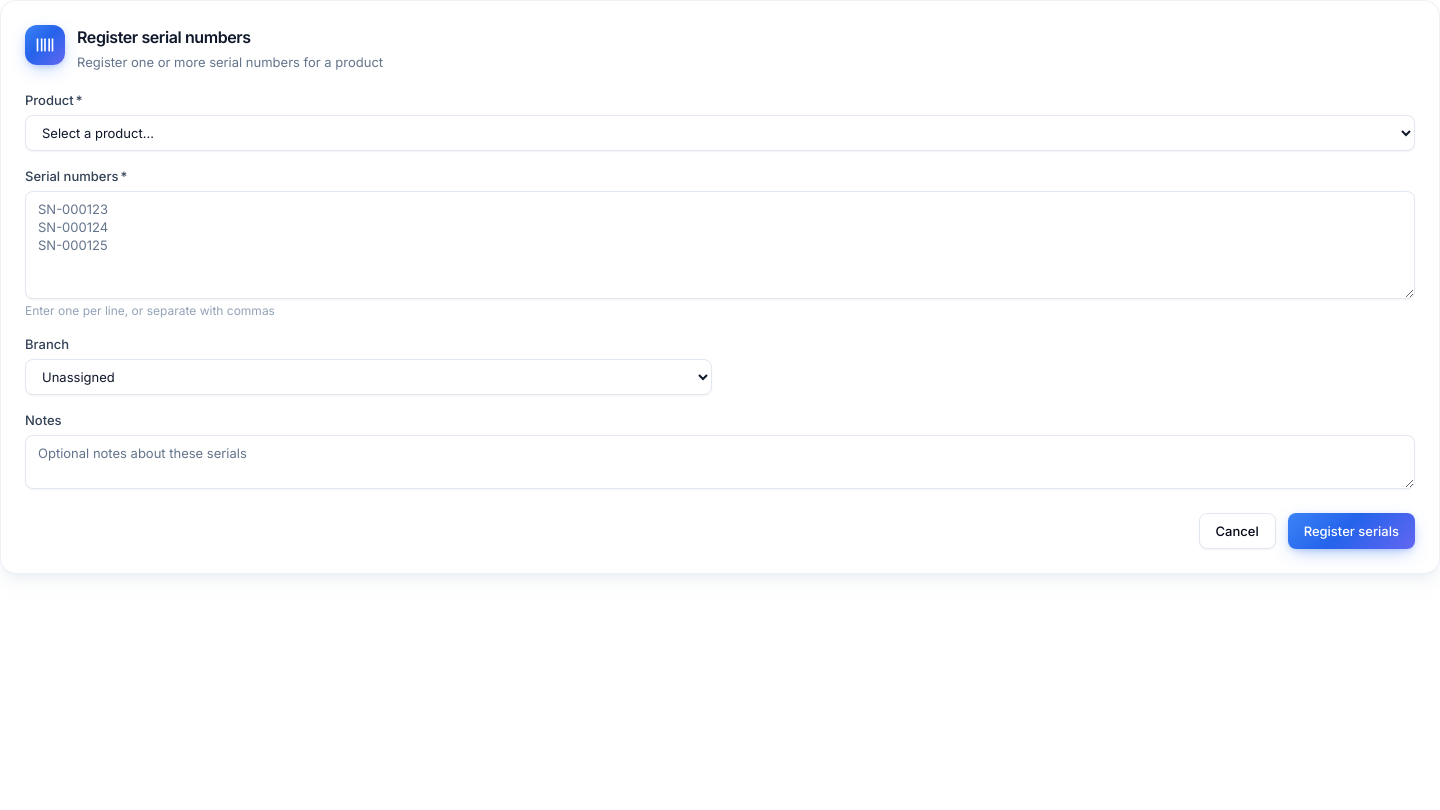
Test: SerialForm (create) › shows a validation error when no serials are entered
This screenshot has width=1440, height=810.
Step 1. Select "Laptop (LAP-1)" in the dropdown labelled "Product*" → (720, 133), box x1=25 y1=115 x2=1415 y2=151
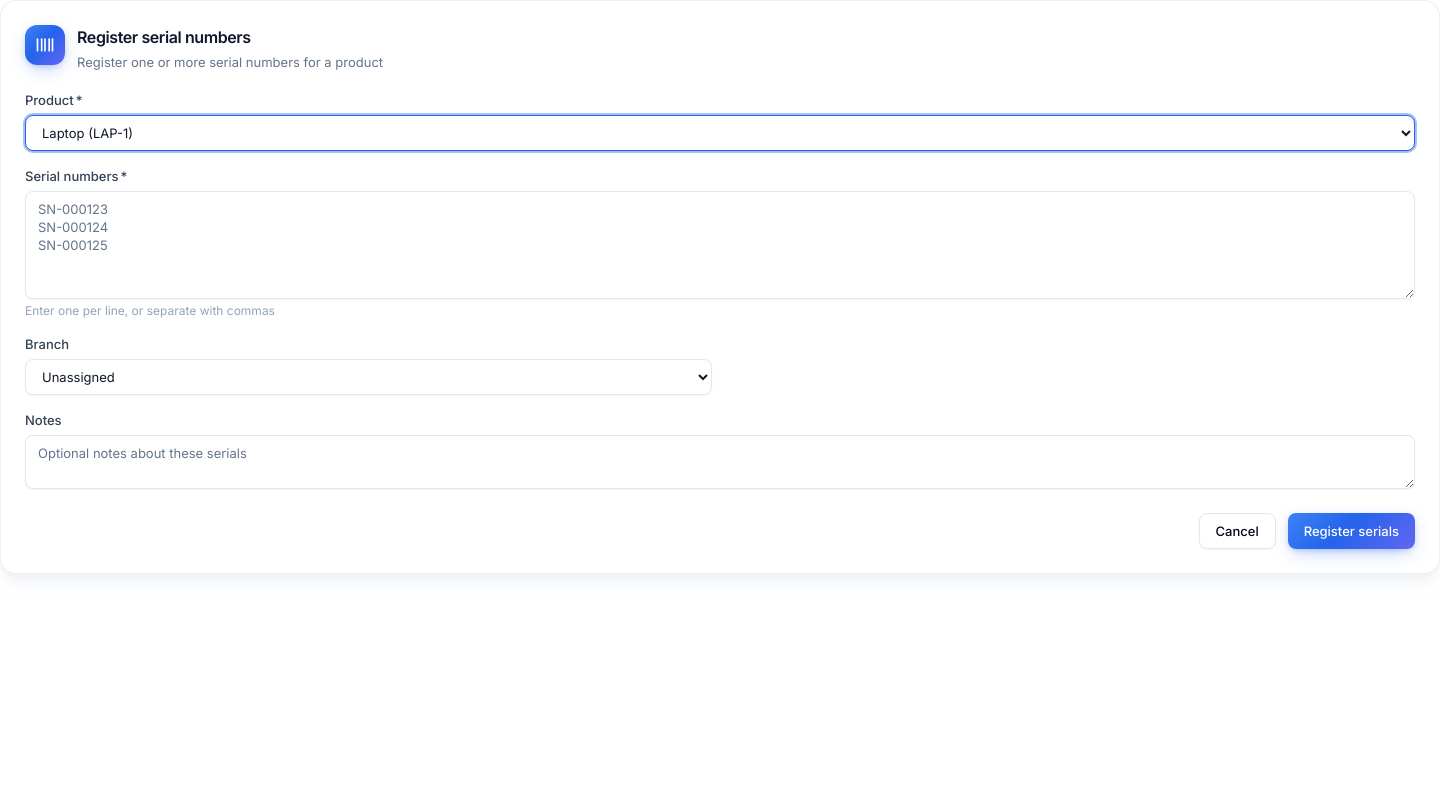
Step 2. Click the button "Register serials" → (1351, 531), box x1=1288 y1=513 x2=1415 y2=549
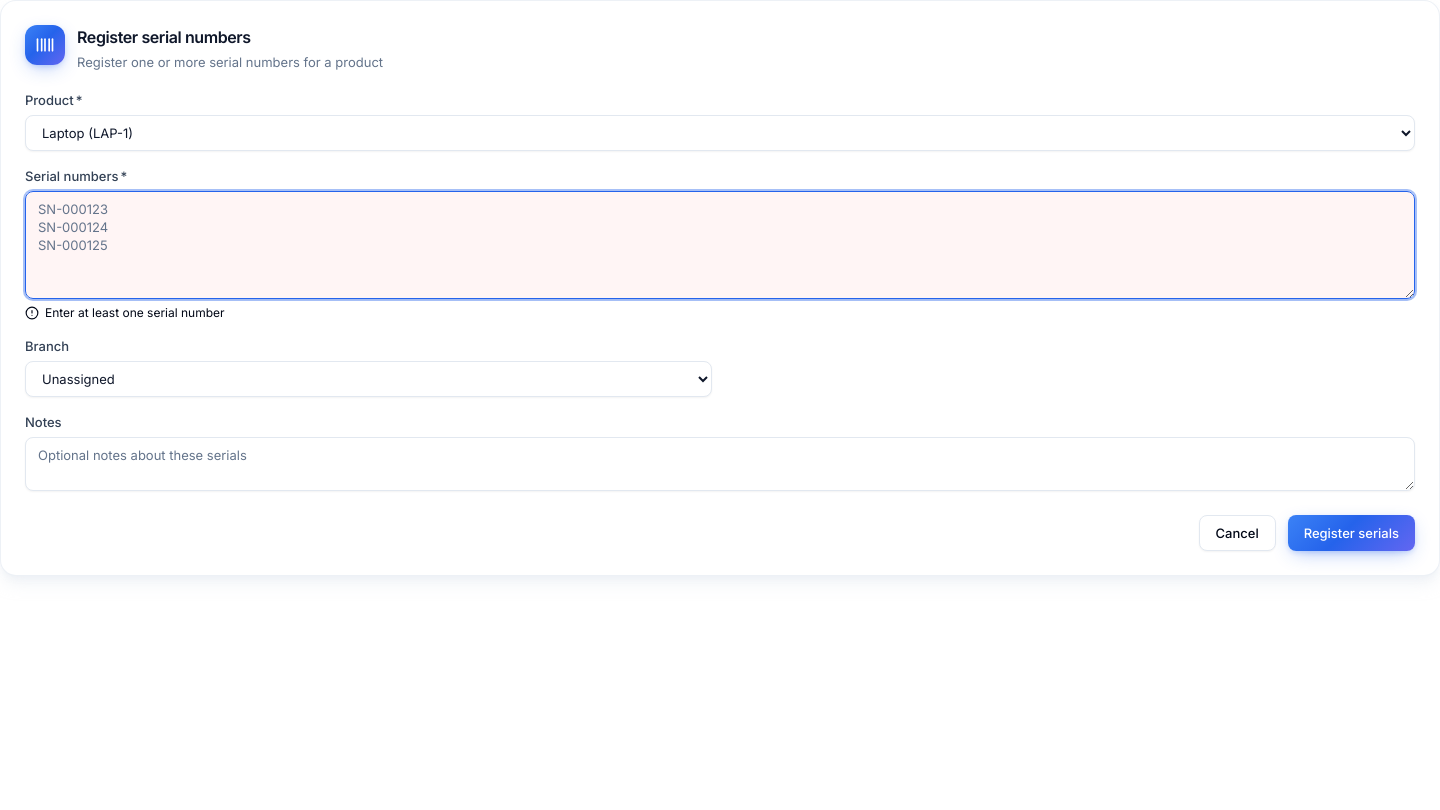
Expected: the text "Enter at least one serial number" is shown, x1=25 y1=305 x2=224 y2=320
